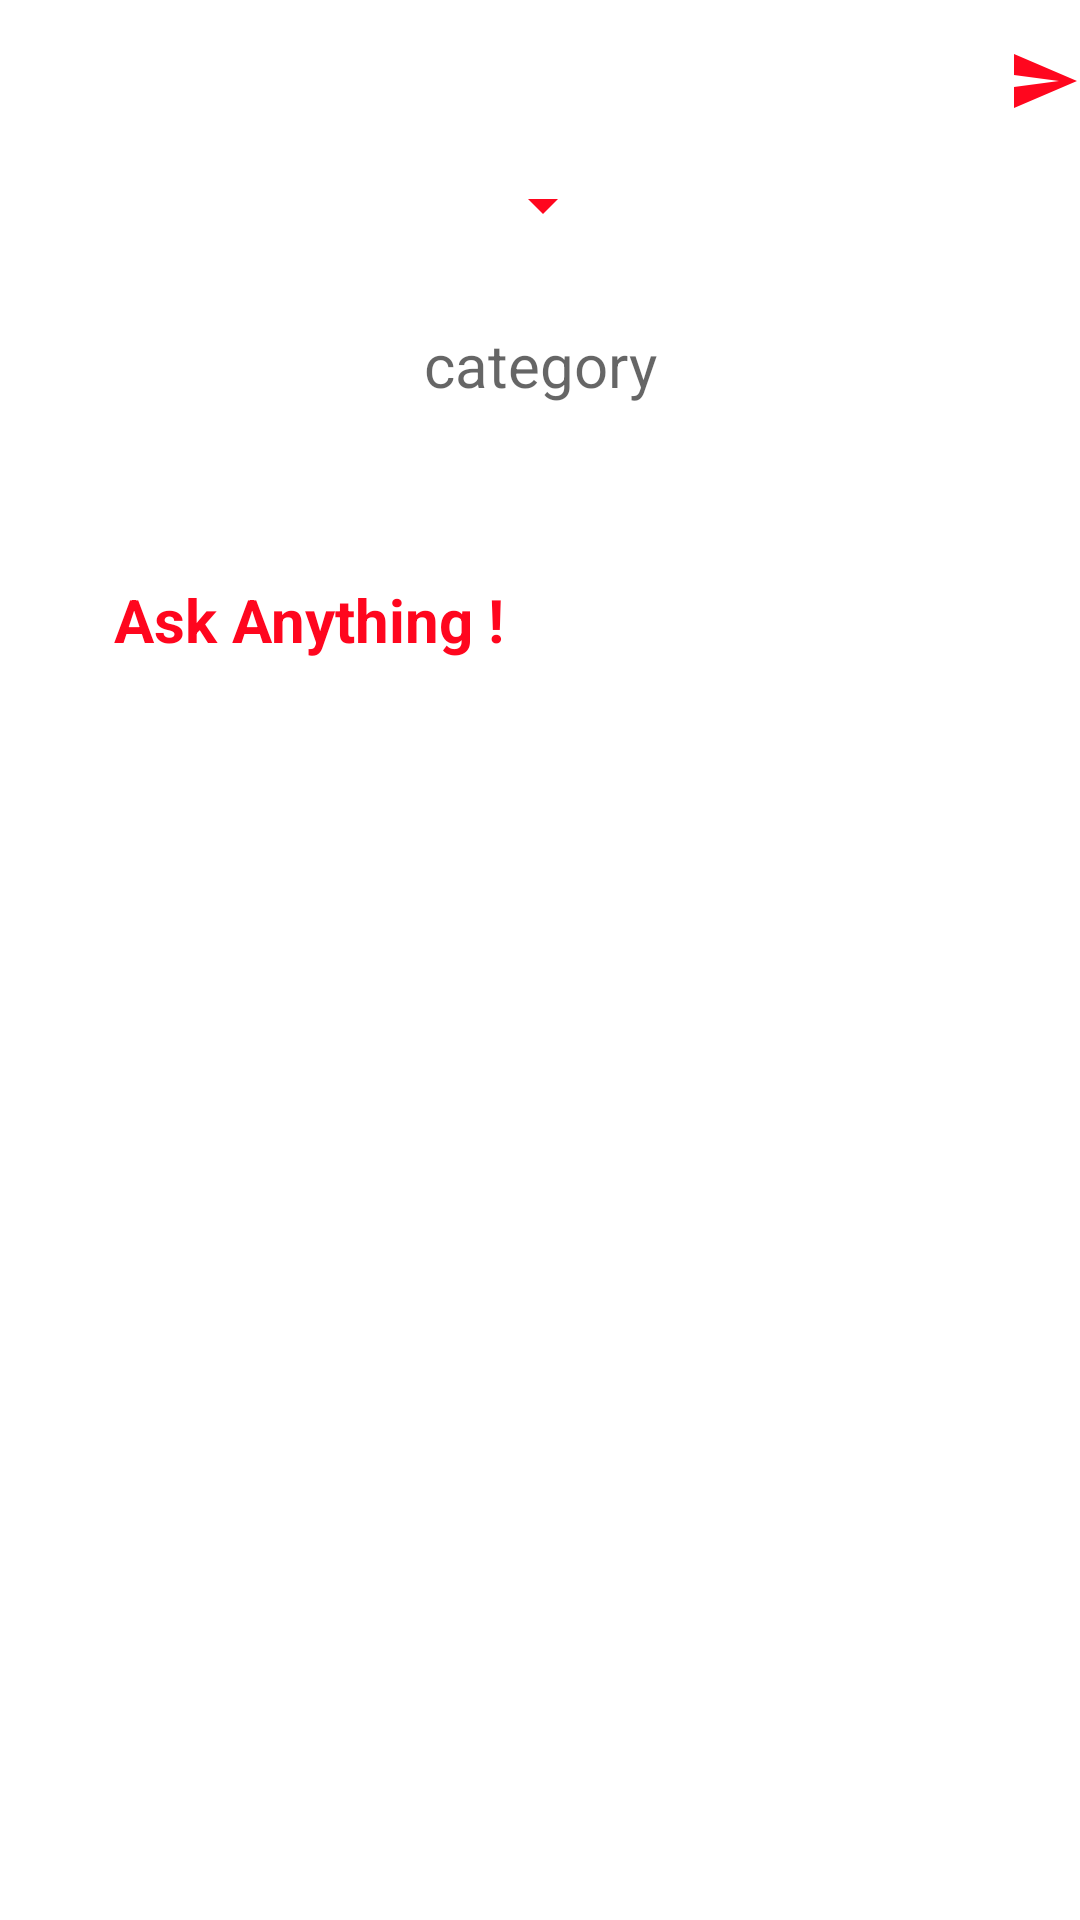

Where icons sit on this 1080*1920 app screen, as (x1=x1, y1=y1, x2=x2, y2=y2):
send: (x1=1014, y1=54, x2=1077, y2=108)
